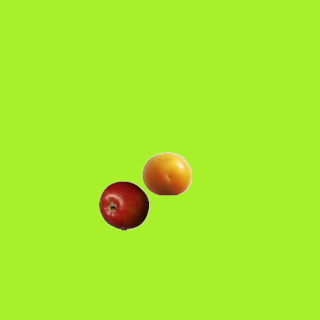Apple Braeburn: (98, 180, 148, 230)
Cherry Wax Yellow: (141, 148, 191, 198)
